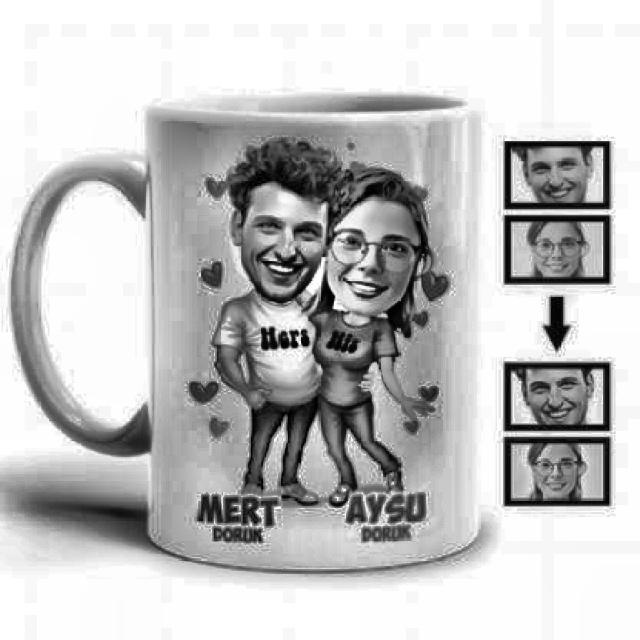Mug: (9, 92, 491, 576)
